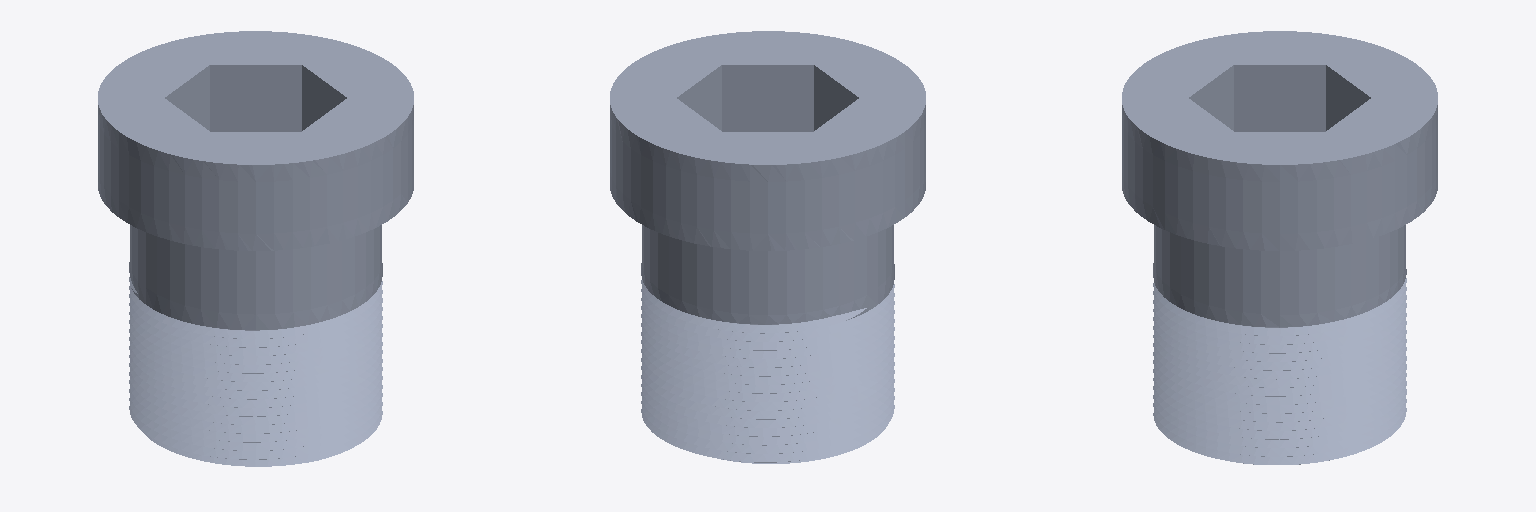
Rendered from latch_screw.obj.
3 renders of one model, left to right at view 1: azimuth 30°, elevation 25°; view 2: azimuth 150°, elevation 25°; view 3: azimuth 270°, elevation 25°, orthographic.
Parts seen in each view (by area): view 1: 1; view 2: 1; view 3: 1.
Part boxes in pixels (x1,y1,x2,y2): 1: (98,31,413,466); 1: (610,31,925,463); 1: (1122,31,1437,464).
Bounding box in the file's own units: 10 × 11 × 10.